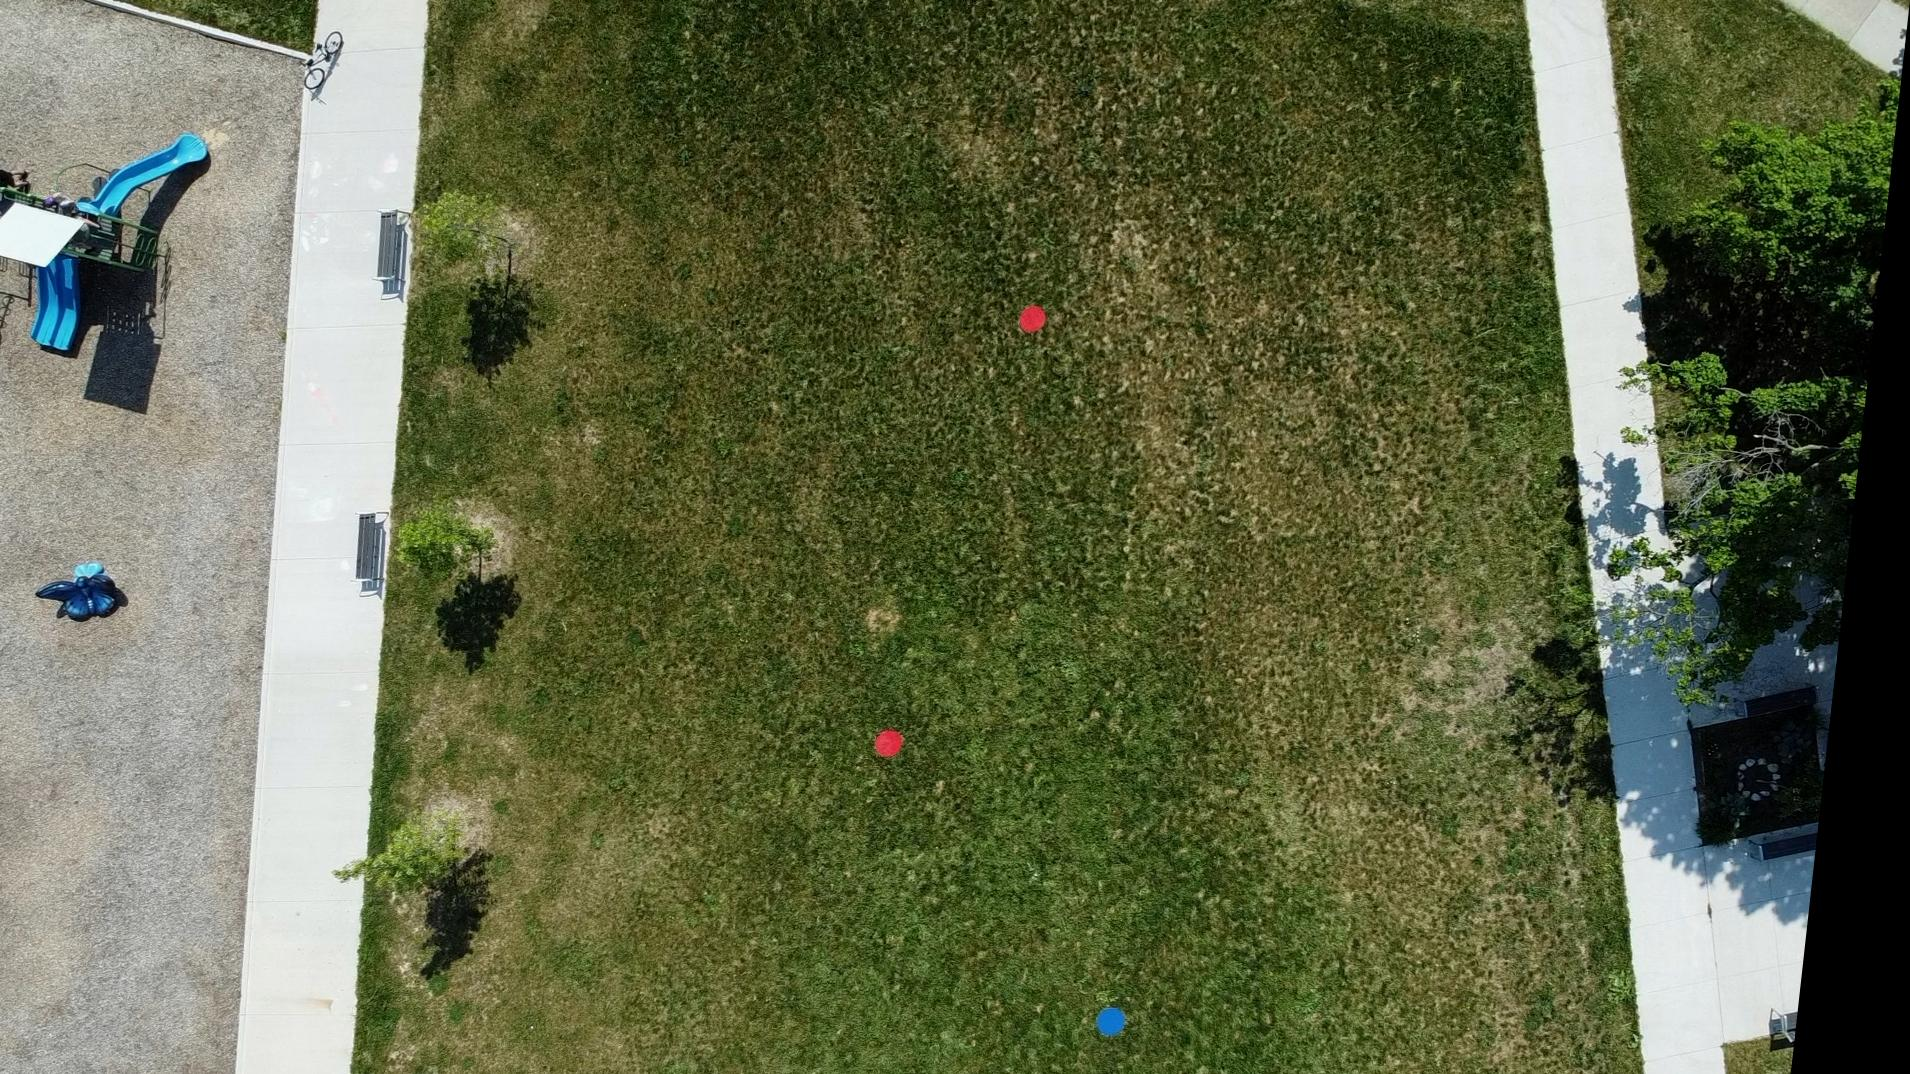Blue: (1118, 1007, 1153, 1036)
Red: (889, 728, 924, 758), (1025, 304, 1056, 334)
